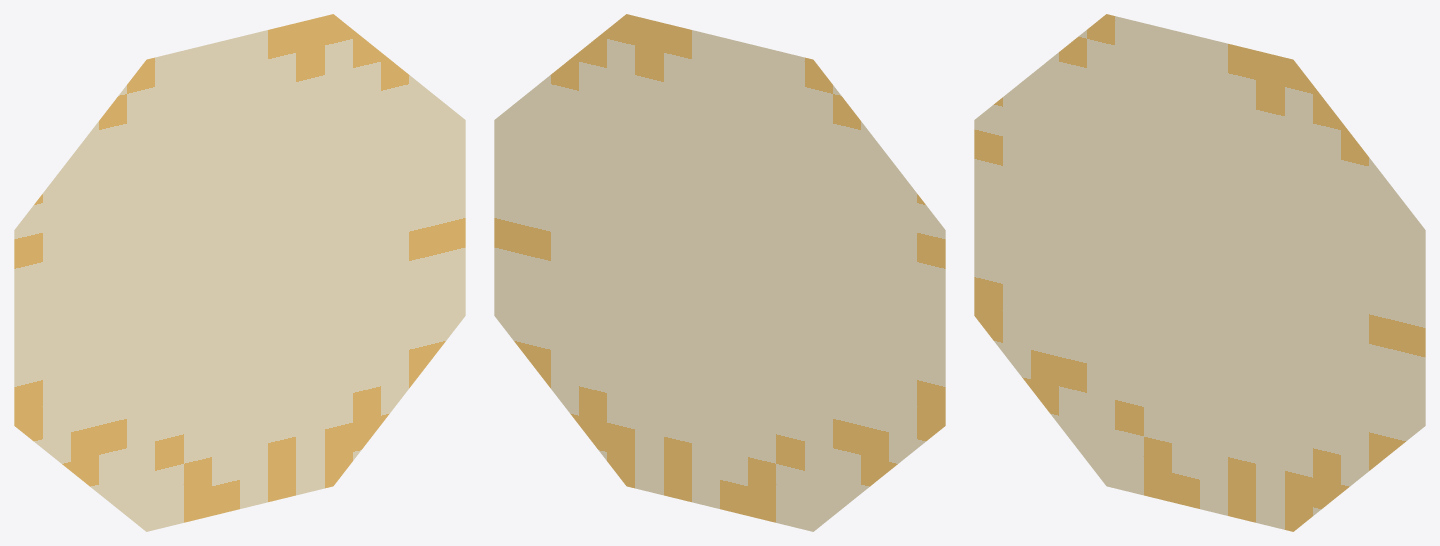
The model's file is wsky.sun.glb.
3 renders of one model, left to right at view 1: azimuth 30°, elevation 25°; view 2: azimuth 150°, elevation 25°; view 3: azimuth 330°, elevation 25°, orthographic.
Parts seen in each view (by area): view 1: kit_card_disc; view 2: kit_card_disc; view 3: kit_card_disc.
Boxes of the visible parts, x1,y1,x2,y2 form: kit_card_disc: [14, 14, 465, 531]; kit_card_disc: [494, 14, 945, 531]; kit_card_disc: [974, 14, 1425, 531].
Bounding box in the file's own units: 2.77 × 2.77 × 0.
1 material, 1 textured.
